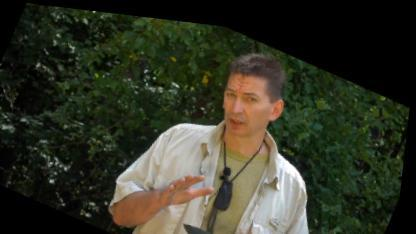knife: (173, 203, 299, 233)
